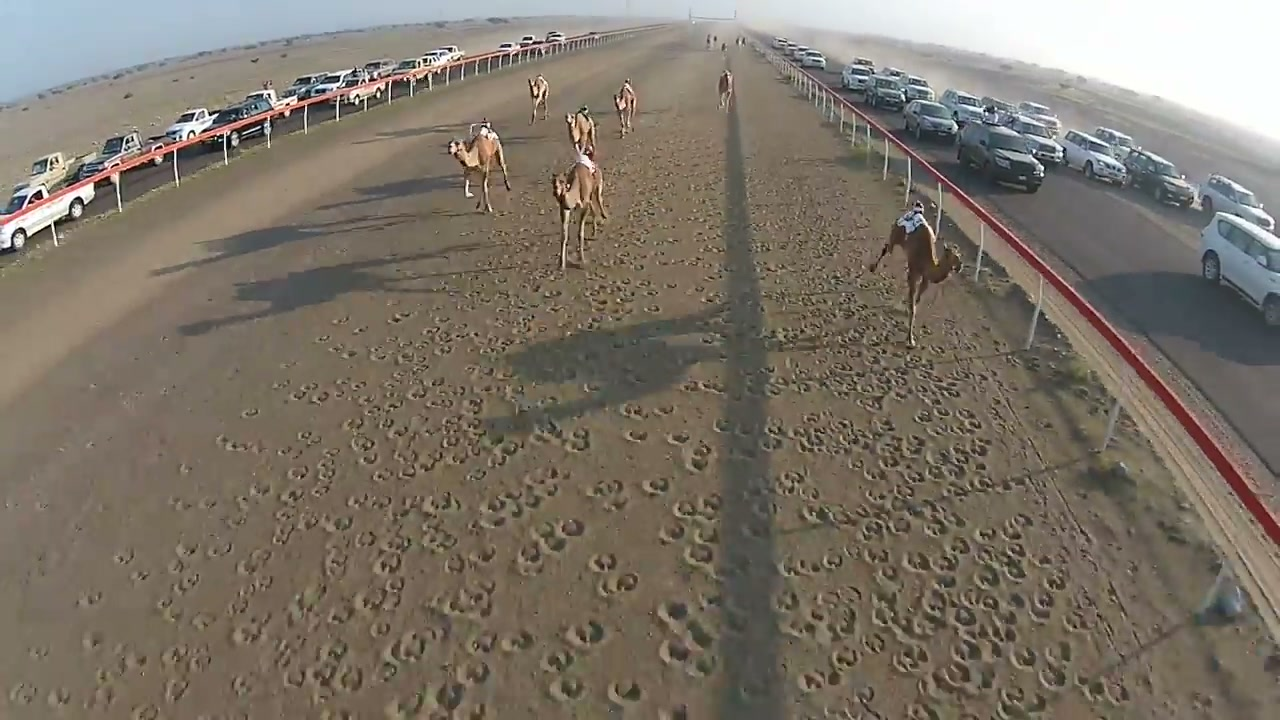animal_footprint: (0, 56, 1272, 719)
